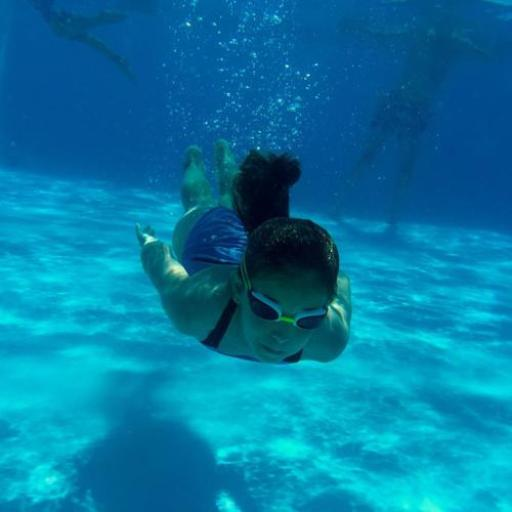swimming: (170, 138, 357, 415)
